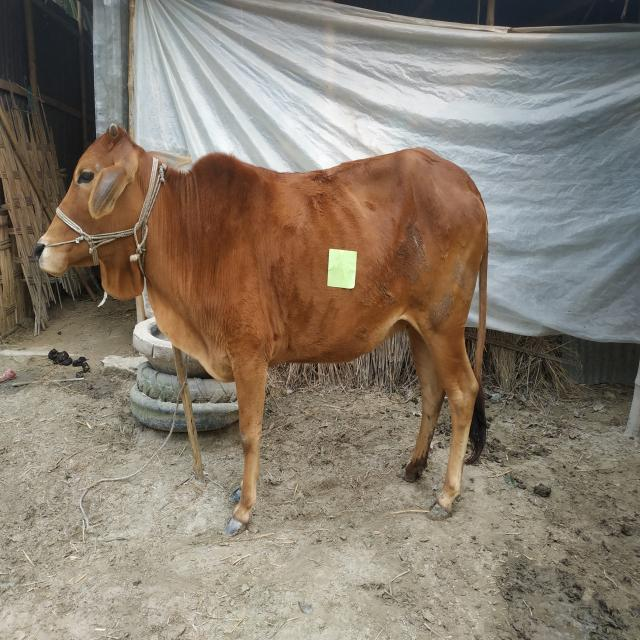badan_sapi: (216, 149, 486, 373)
sapi: (28, 114, 495, 538)
